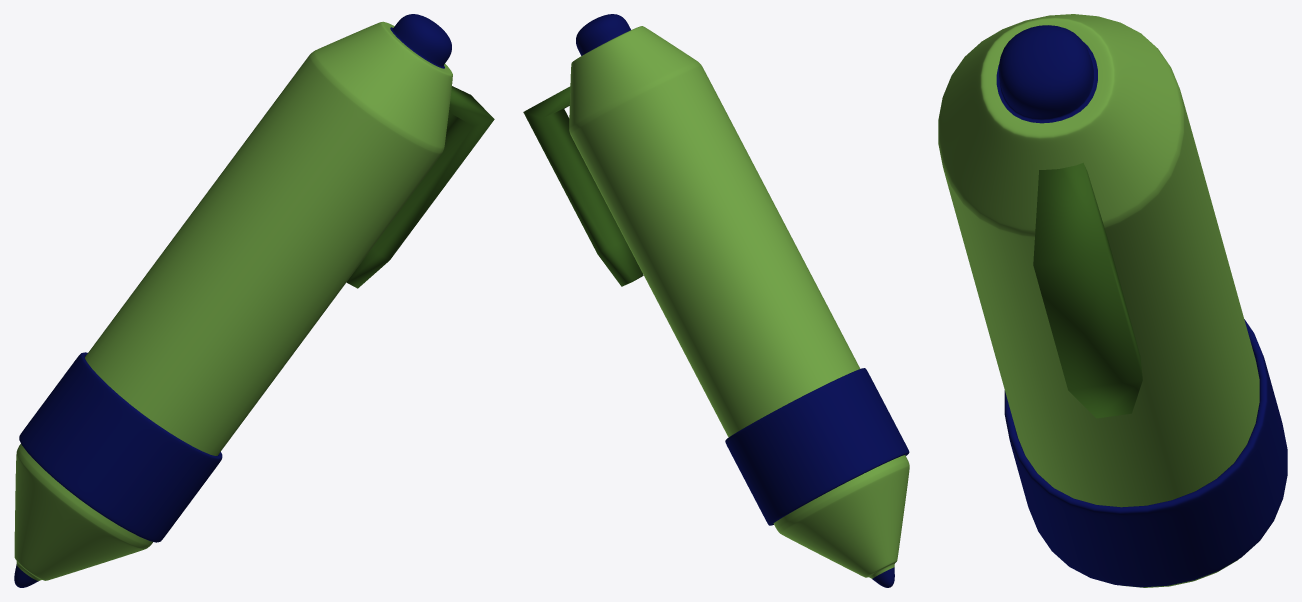
Rendered from ballpen.glb.
3 renders of one model, left to right at view 1: azimuth 30°, elevation 25°; view 2: azimuth 150°, elevation 25°; view 3: azimuth 270°, elevation 25°, orthographic. The views are drawn at different scales.
Parts seen in each view (by area): view 1: Cube.016, Cube.017, Plane.004; view 2: Cube.016, Cube.017, Plane.004; view 3: Cube.016, Cube.017, Plane.004.
Part boxes in pixels (x1,y1,x2,y2): Cube.016: (14,14,452,587); Cube.017: (19,352,222,542); Plane.004: (346,86,494,288); Cube.016: (569,14,909,587); Cube.017: (725,368,909,525); Plane.004: (523,86,643,286); Cube.016: (938,14,1259,587); Cube.017: (1004,319,1287,587); Plane.004: (1033,162,1142,418).
Size of the model in its own units: 5.18 by 5.89 by 2.34.
